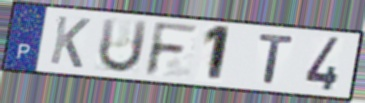1: (200, 24, 232, 86)
4: (303, 36, 341, 93)
F: (142, 20, 201, 79)
K: (47, 14, 93, 71)
T: (256, 32, 297, 86)
U: (95, 16, 151, 75)
